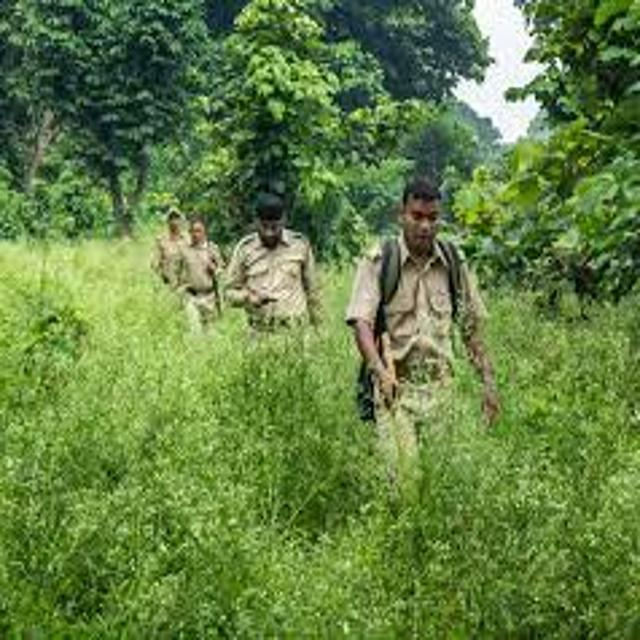ranger: (317, 152, 536, 509), (210, 165, 349, 376), (156, 203, 237, 358), (124, 193, 212, 308)
